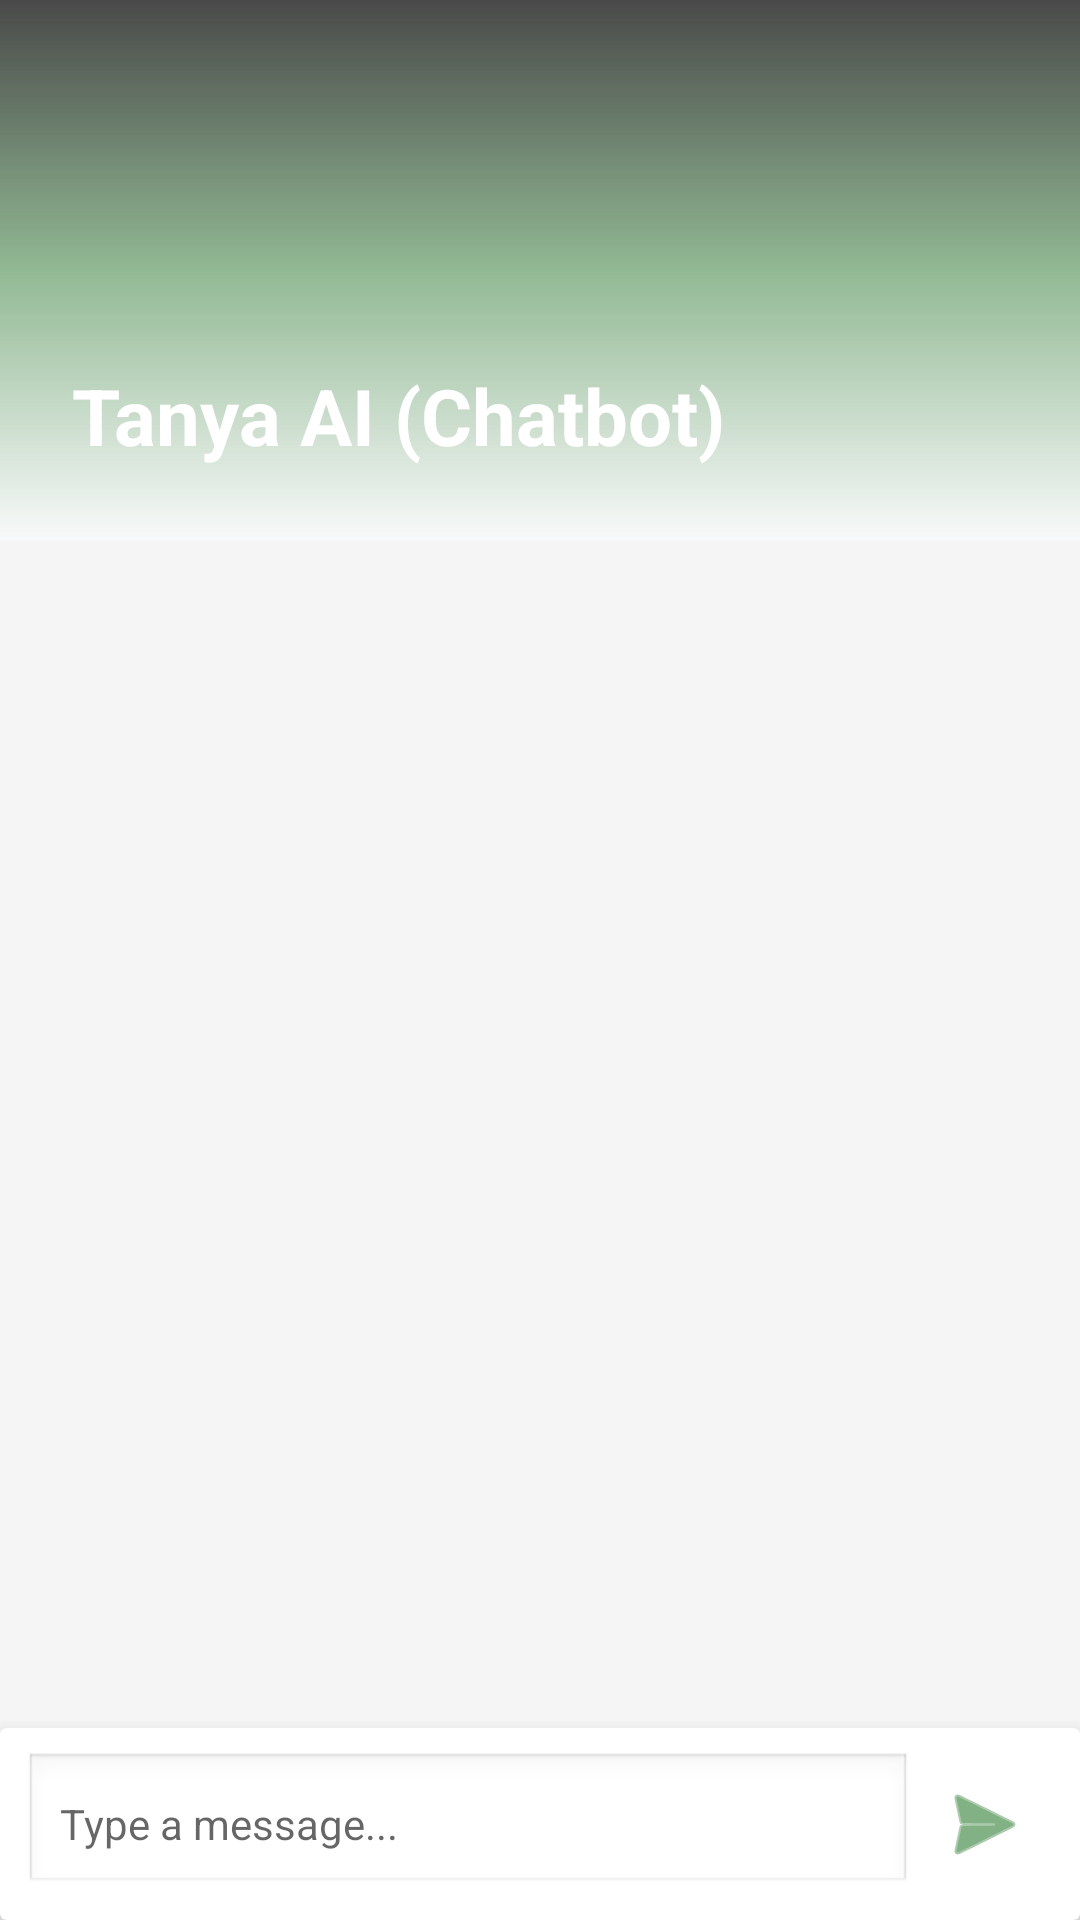

Named icons in this screenshot (1080×1920) and their bounding boxes, box(x1, y1, x2, y2):
Send: box(954, 1794, 1016, 1855)
